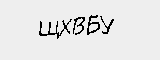Б: (85, 13, 102, 37)
В: (71, 14, 88, 37)
У: (100, 15, 116, 38)
Х: (59, 19, 74, 35)
Щ: (36, 22, 60, 40)
